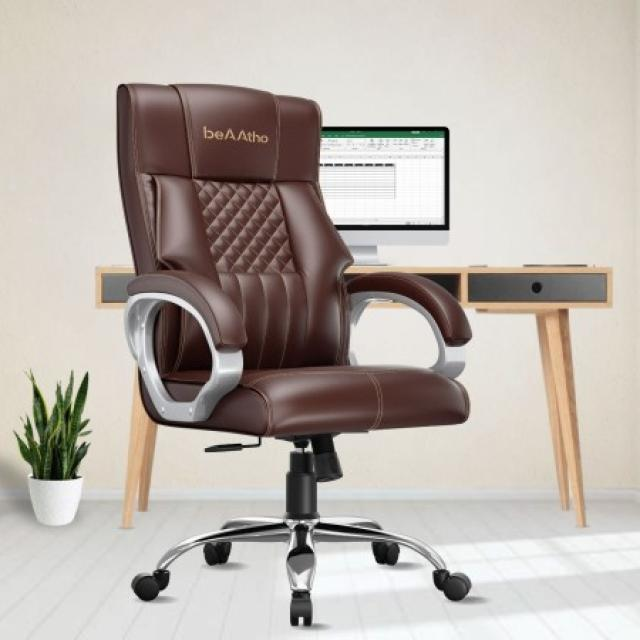chair: (64, 74, 524, 640)
